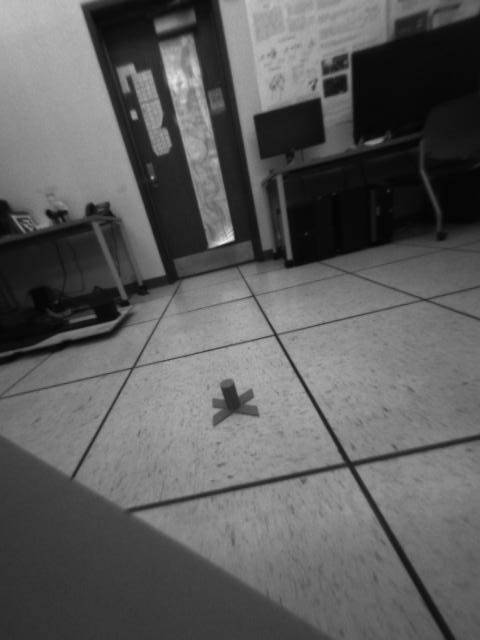X: (211, 375, 259, 427)
